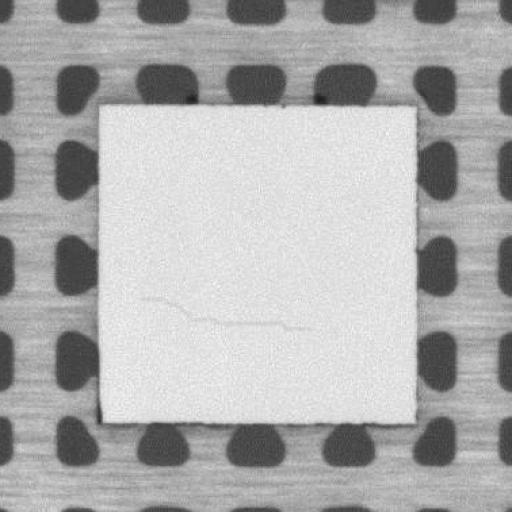DIE_CRACK: (144, 298, 322, 332)
